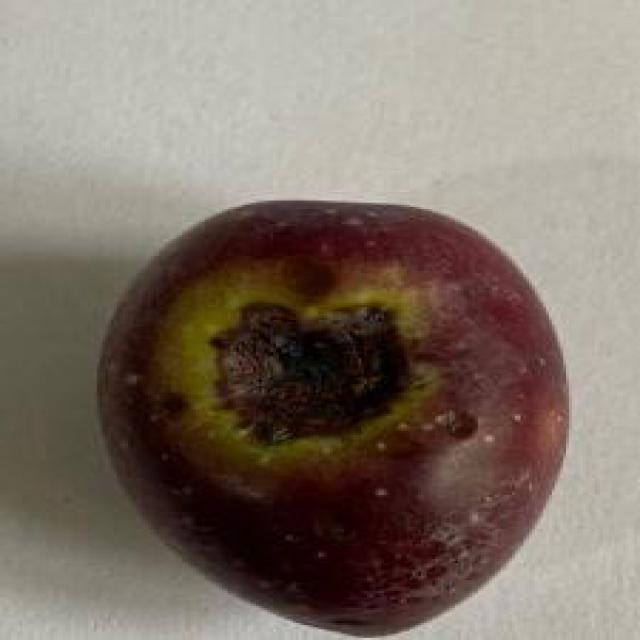Anthracnose: (100, 200, 564, 632)
